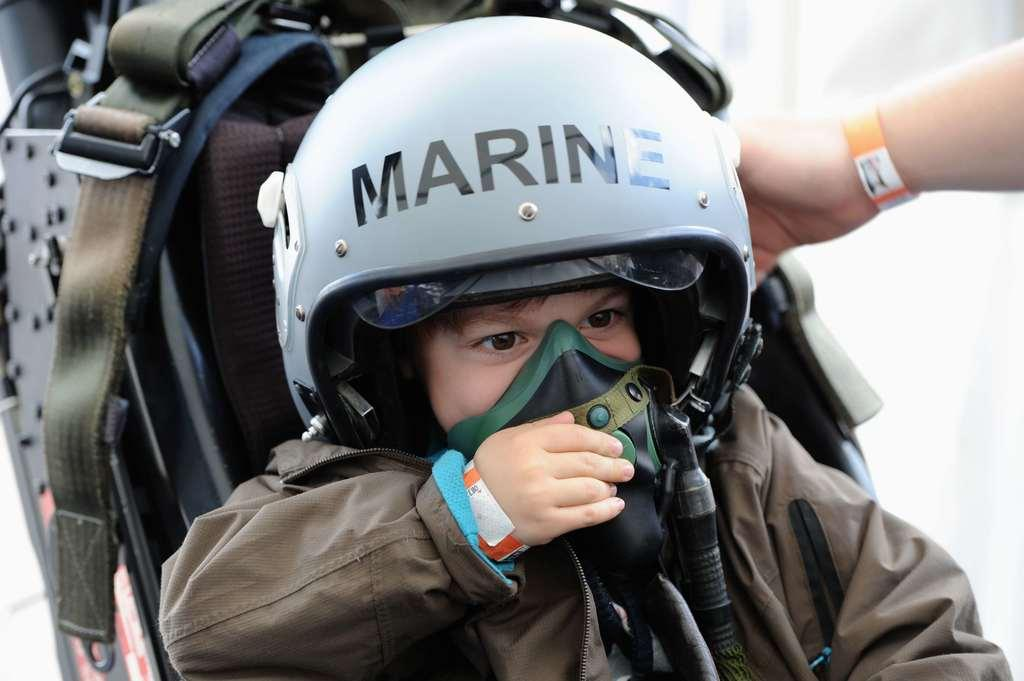helmet: (271, 15, 758, 488)
